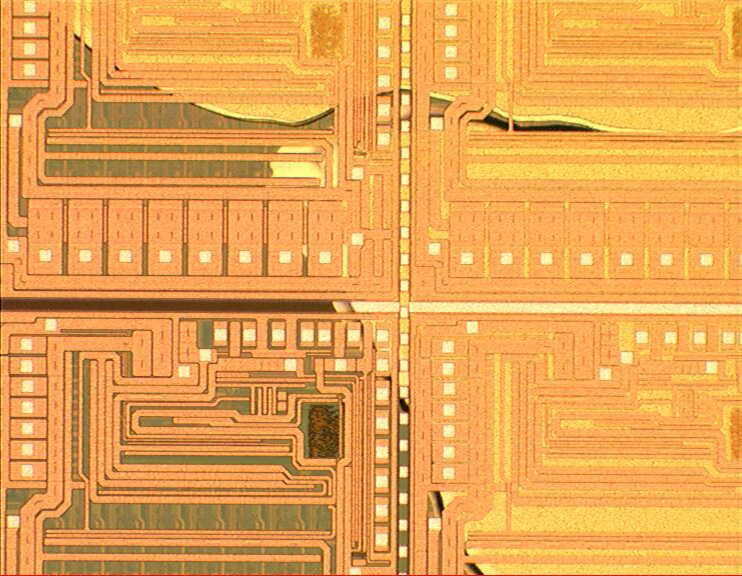COATING BAD: (37, 1, 742, 576)
